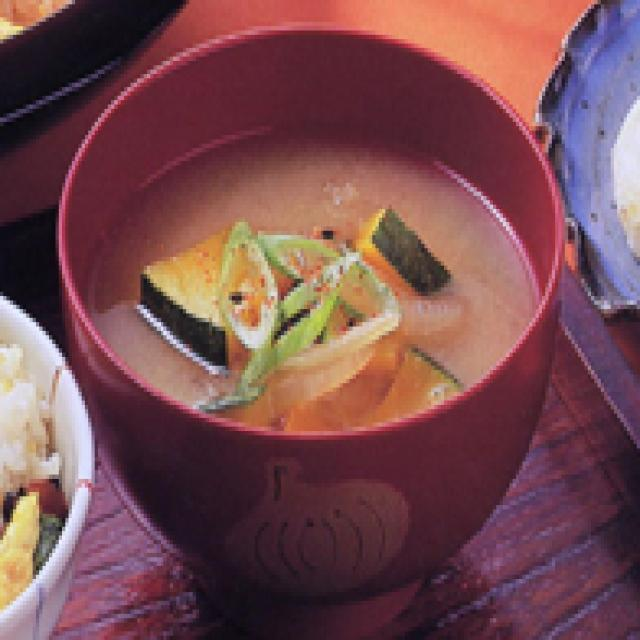汤锅炖物: (42, 13, 565, 640)
